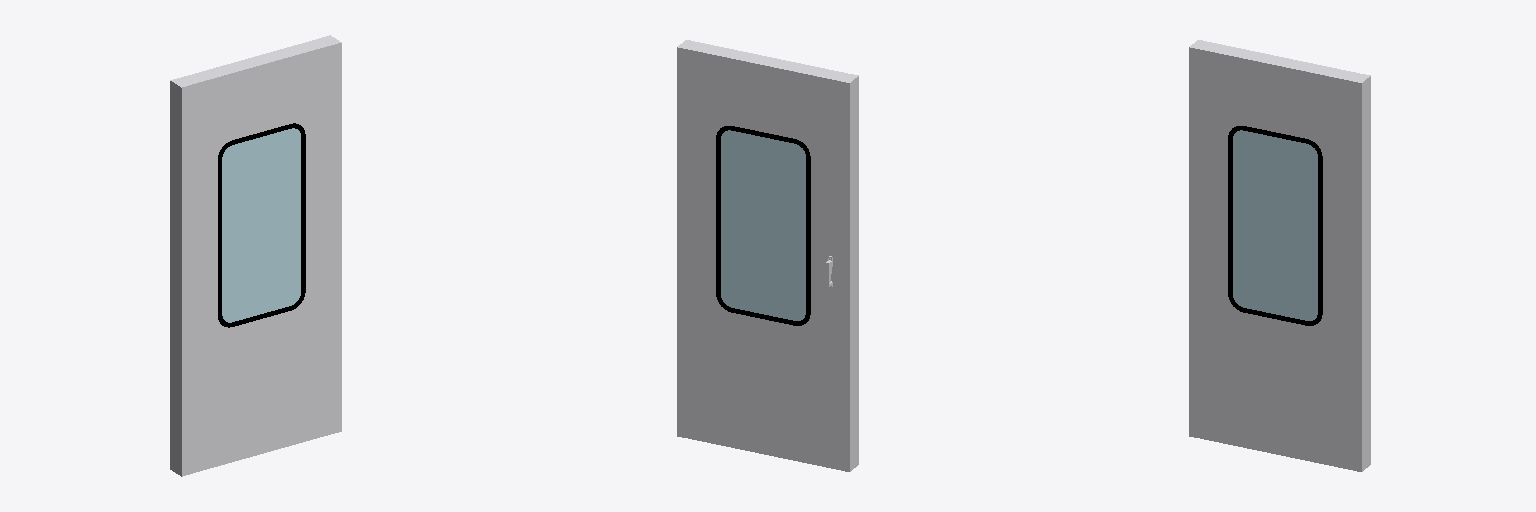
File: porta_painel.obj
3 views of the same model, side by side, from view 1: azimuth 30°, elevation 25°; view 2: azimuth 150°, elevation 25°; view 3: azimuth 330°, elevation 25° (orthographic).
Parts seen in each view (by area): view 1: Mesh7 Group7 Model, Mesh3 Group3 Model, Mesh4 Group4 Model, Mesh6 Group6 Model, Mesh8 Group8 Model; view 2: Mesh7 Group7 Model, Mesh5 Group5 Model, Mesh4 Group4 Model, Mesh6 Group6 Model, Mesh2 Group2 Model; view 3: Mesh7 Group7 Model, Mesh3 Group3 Model, Mesh6 Group6 Model, Mesh4 Group4 Model, Mesh8 Group8 Model.
Part boxes in pixels (x1,y1,x2,y2): Mesh7 Group7 Model: (178, 36, 339, 473); Mesh3 Group3 Model: (222, 128, 300, 322); Mesh4 Group4 Model: (170, 78, 189, 476); Mesh6 Group6 Model: (322, 35, 341, 433); Mesh8 Group8 Model: (218, 123, 305, 327); Mesh7 Group7 Model: (679, 40, 854, 469); Mesh5 Group5 Model: (721, 130, 805, 320); Mesh4 Group4 Model: (841, 74, 858, 471); Mesh6 Group6 Model: (677, 40, 694, 437); Mesh2 Group2 Model: (716, 126, 810, 325); Mesh7 Group7 Model: (1194, 40, 1369, 469); Mesh3 Group3 Model: (1233, 130, 1317, 320); Mesh6 Group6 Model: (1353, 74, 1370, 471); Mesh4 Group4 Model: (1189, 40, 1202, 437); Mesh8 Group8 Model: (1228, 126, 1322, 325).
Size of the model in its own units: 38.53 by 85.5 by 6.57.